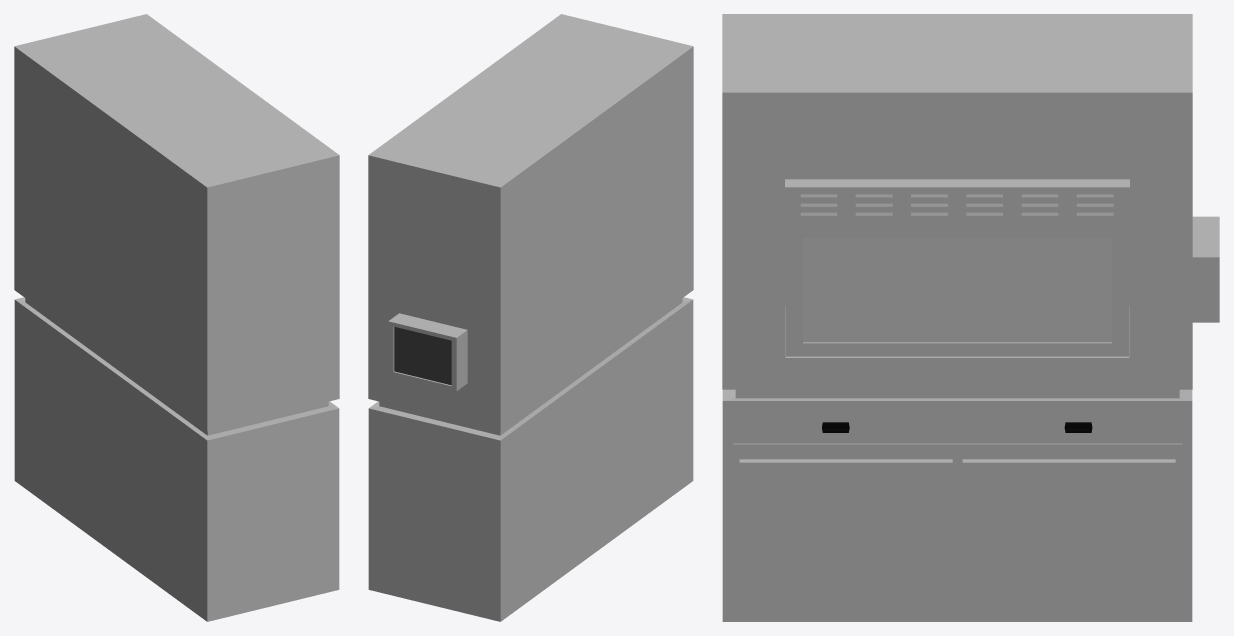
File: fume hood interact.fbx
The picture shows the model from 3 angles, left to right: view 1: azimuth 30°, elevation 25°; view 2: azimuth 150°, elevation 25°; view 3: azimuth 270°, elevation 25°; orthographic projection. The views are drawn at different scales.
Parts seen in each view (by area): view 1: Cube.013; view 2: Cube.013, Cube.018; view 3: Cube.013, Cube.017.
Part boxes in pixels (x1,y1,x2,y2): Cube.013: (14, 14, 339, 621); Cube.013: (368, 14, 693, 621); Cube.018: (394, 326, 451, 385); Cube.013: (722, 14, 1219, 621); Cube.017: (786, 226, 1128, 356).
Size of the model in its own units: 176 by 500 by 426.
4 materials, 4 textured.
